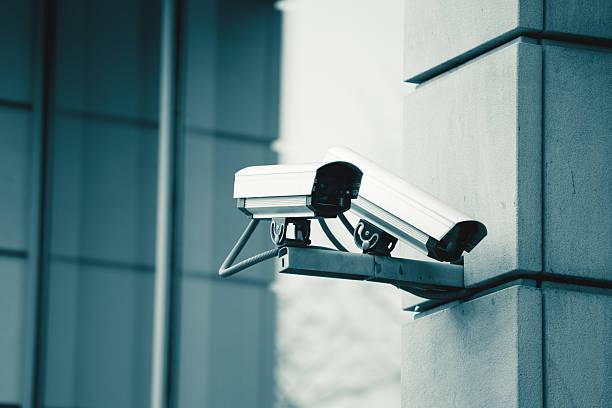camera: (330, 141, 488, 295), (218, 146, 370, 252)
